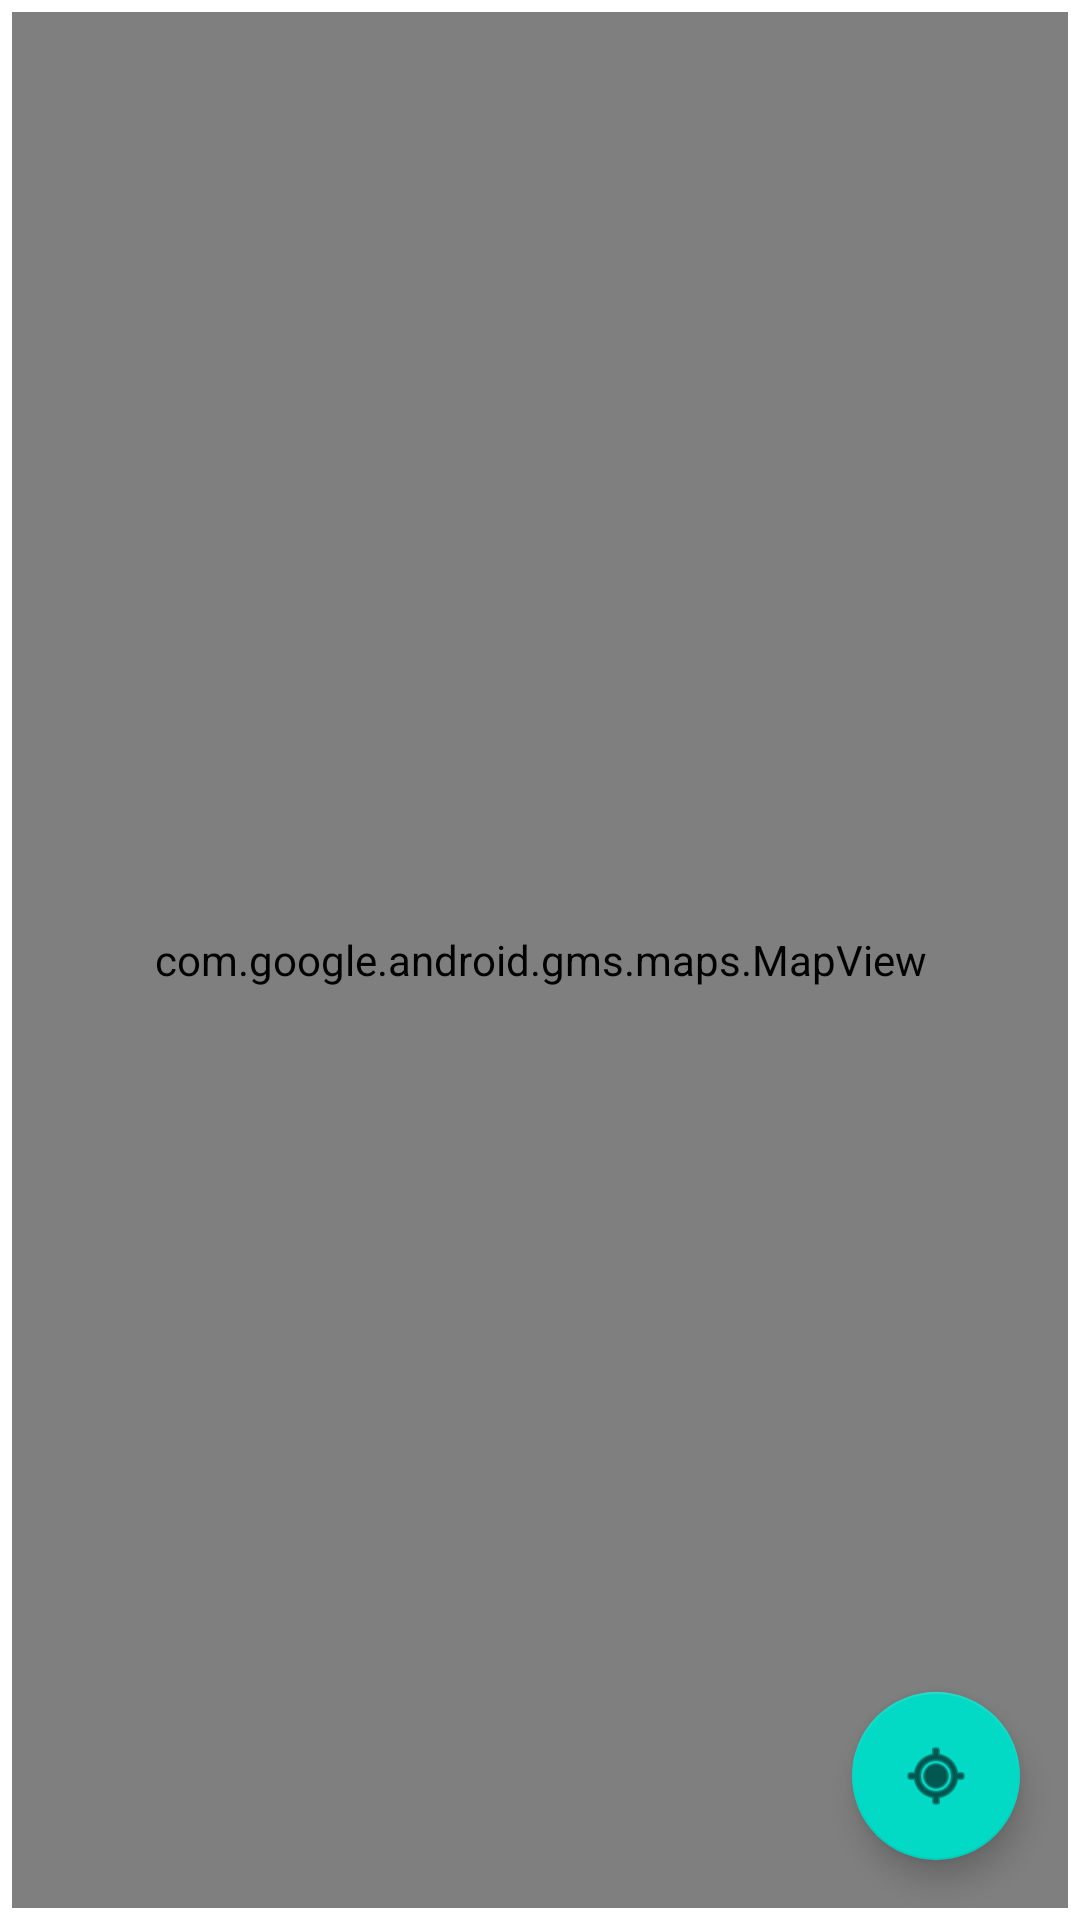

Icons on this 1080px x 1920px Android screen, each with the point to tap as (x,y):
mylocation: (936,1776)
